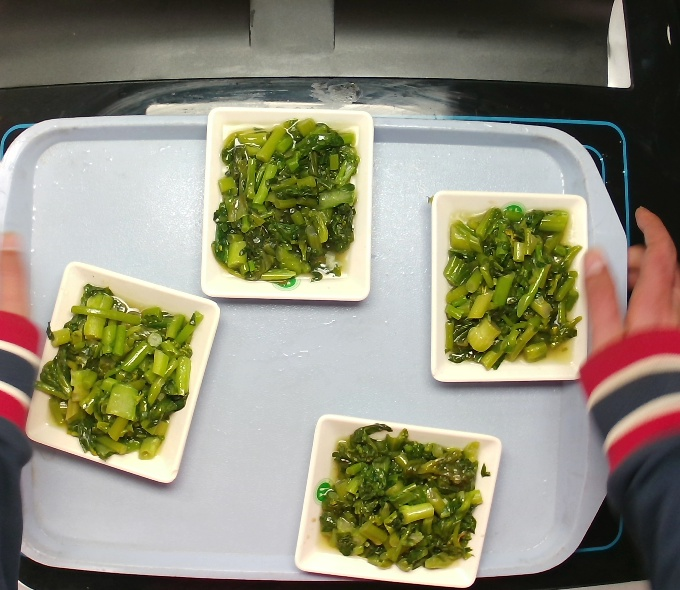wcq-YouCaiHua: (434, 195, 598, 378), (39, 284, 195, 462), (207, 116, 362, 293), (320, 431, 481, 570)
